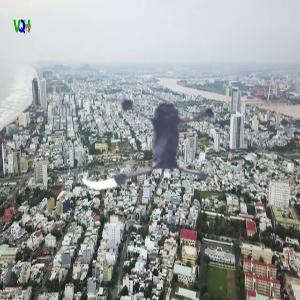drone: (64, 46, 239, 221)
